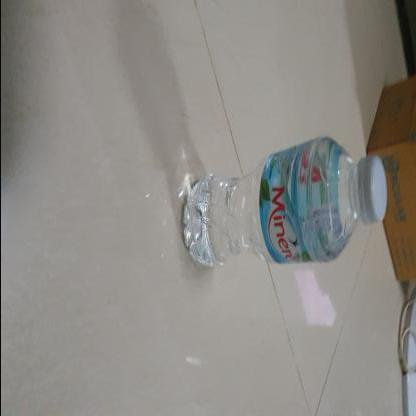bottle: (168, 145, 384, 271)
